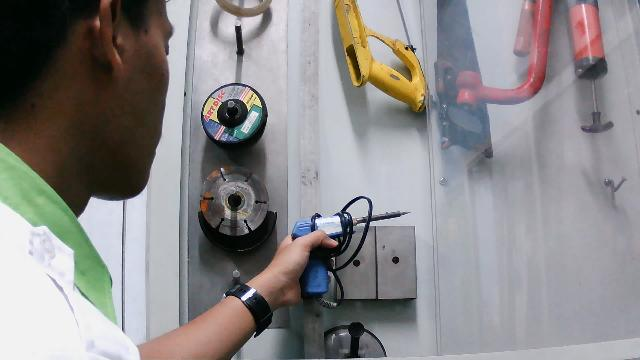solder_electrical: (284, 183, 413, 314)
